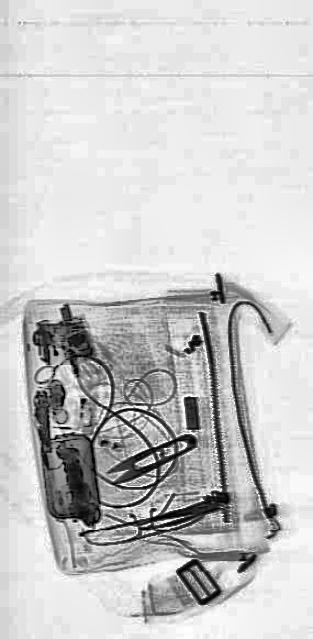Scissors: (104, 426, 196, 490)
